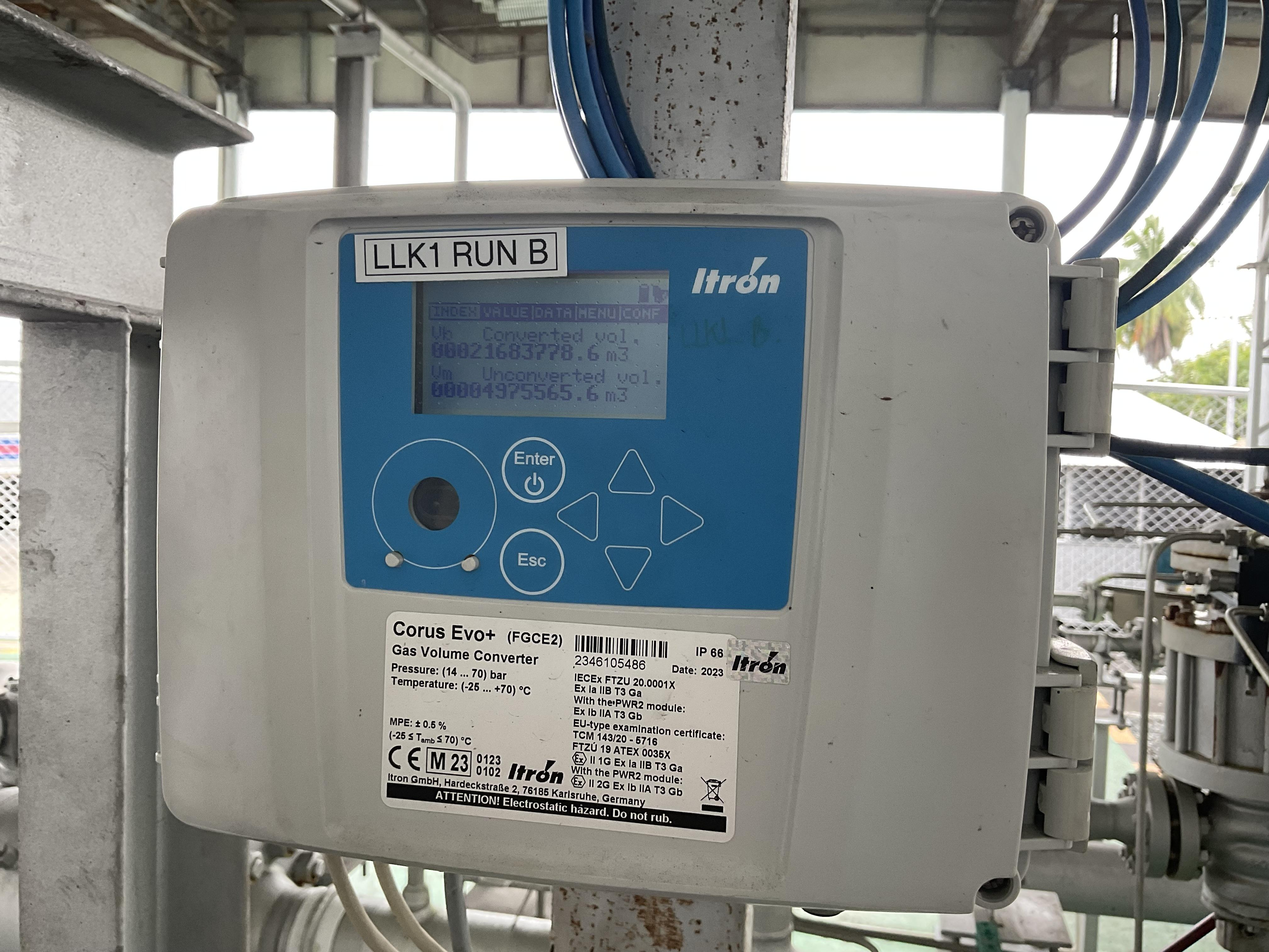digital_screen: (410, 264, 669, 420)
